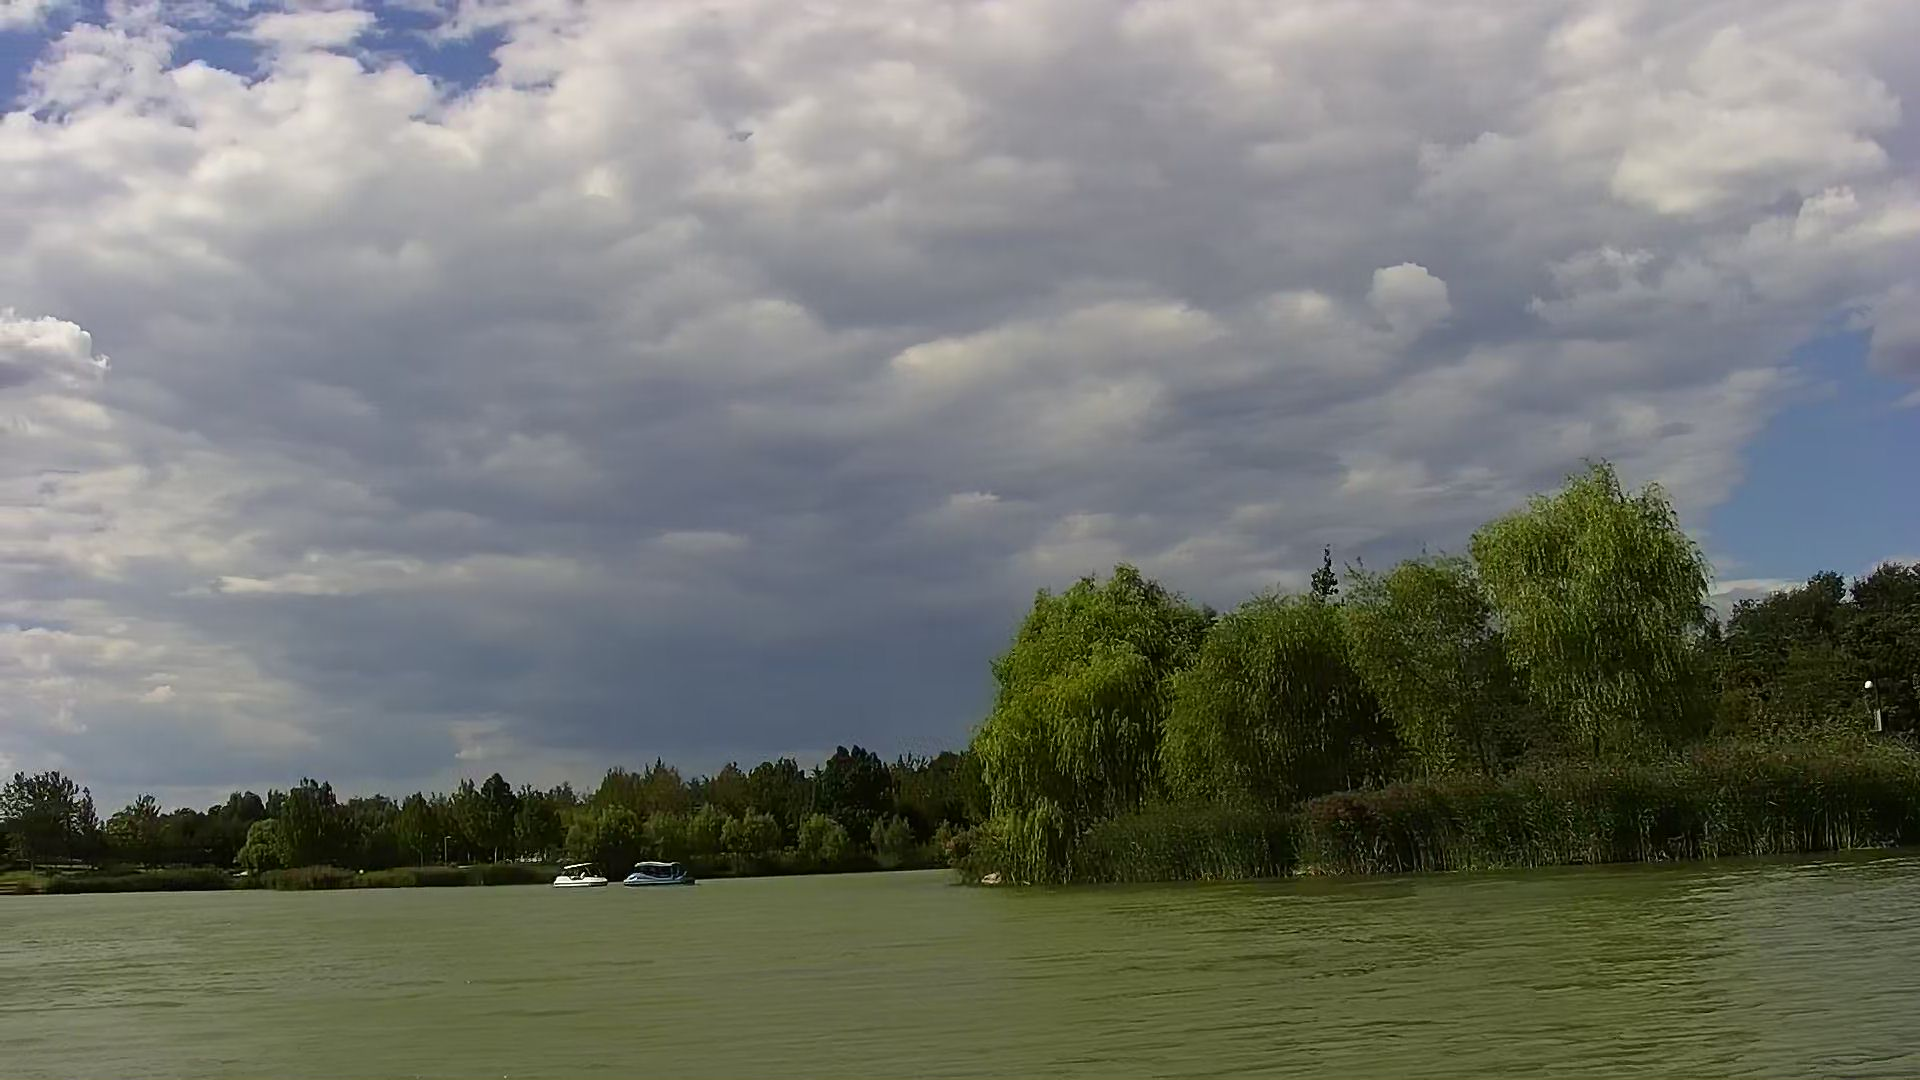boat: (622, 860, 696, 891), (549, 861, 611, 891)
rock: (980, 870, 1004, 891)
